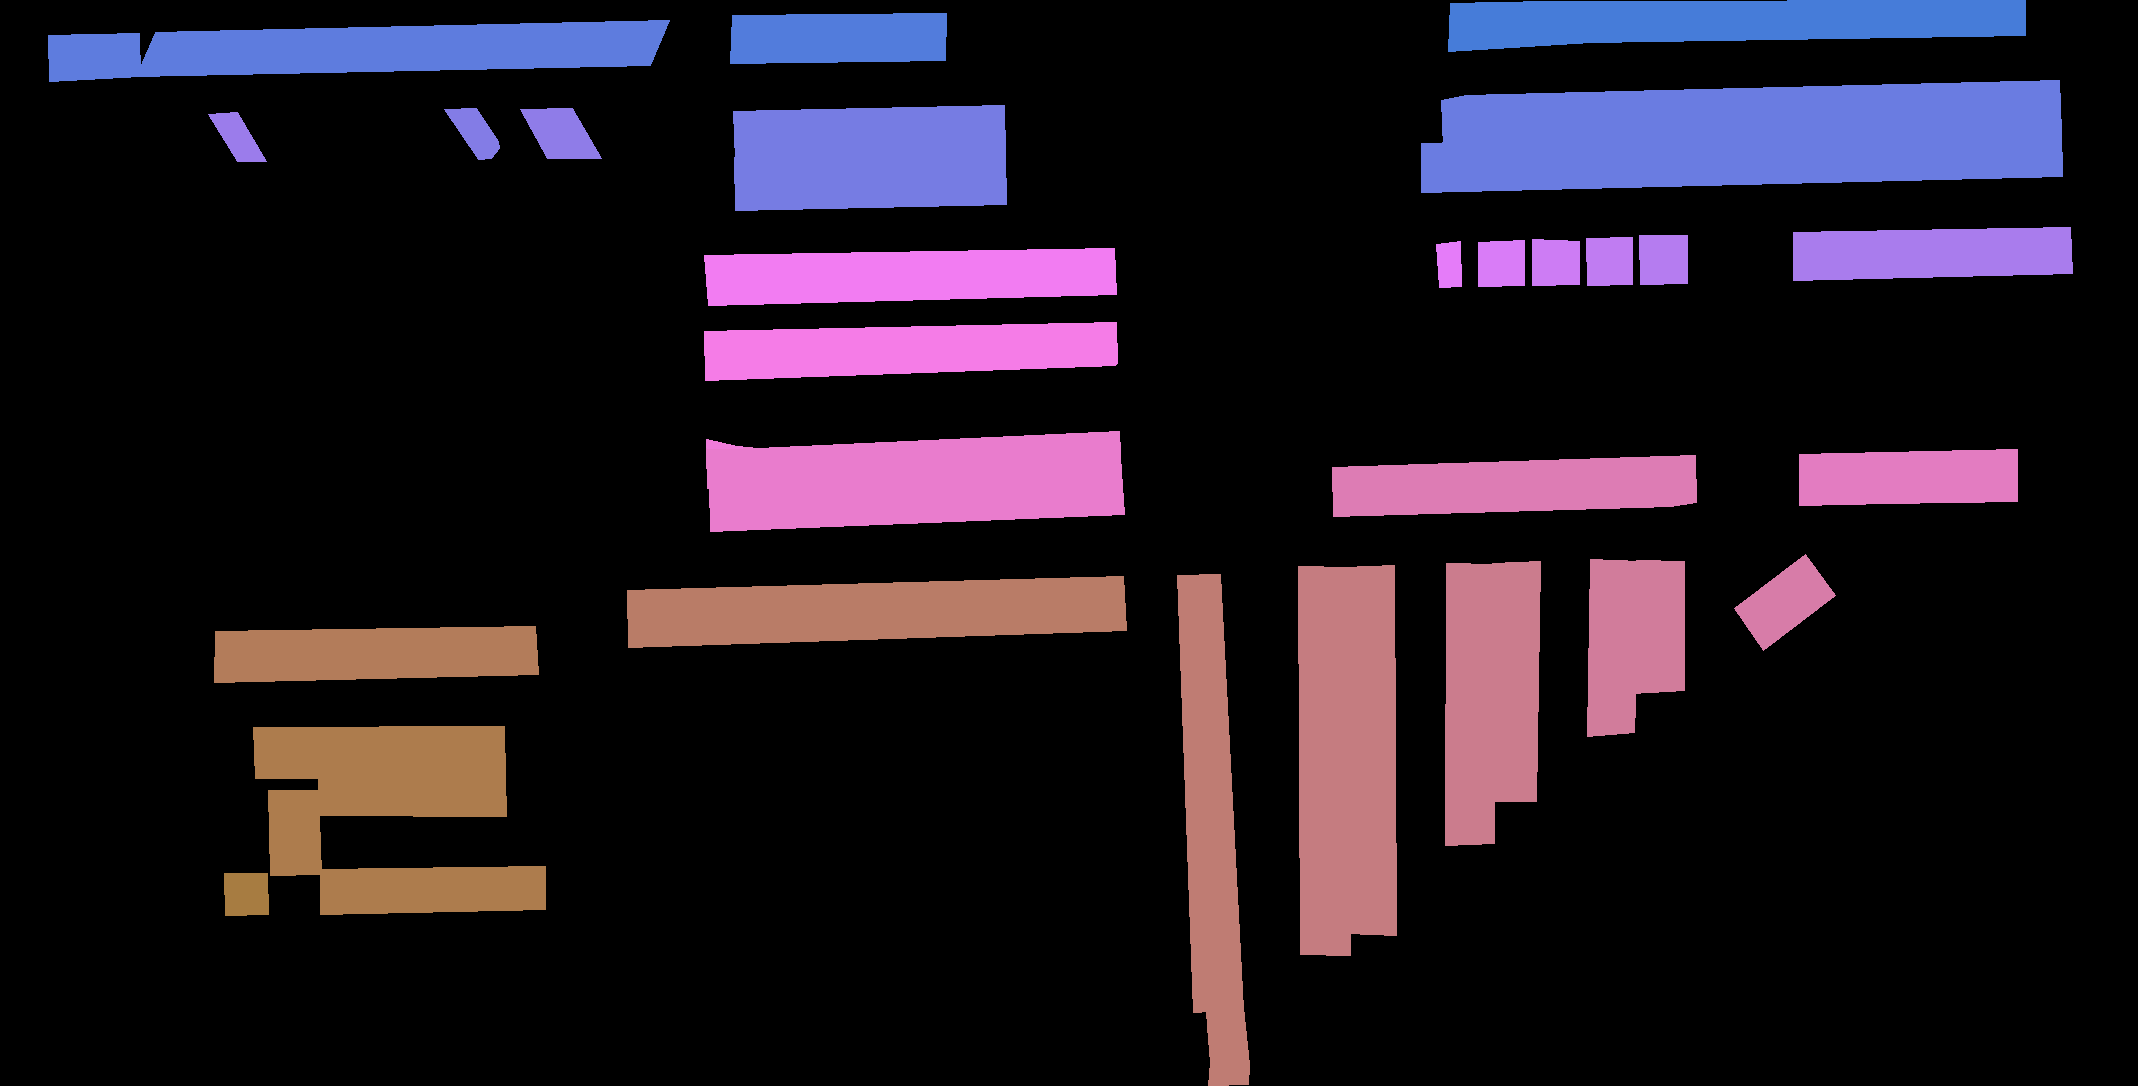parkingspot: (1421, 127, 2062, 193), (1441, 80, 2060, 147), (627, 576, 1126, 647), (136, 19, 669, 76), (1448, 0, 2024, 51), (1177, 573, 1243, 1013), (709, 471, 1124, 531), (703, 321, 1117, 380), (706, 431, 1122, 488), (703, 248, 1116, 305), (1332, 454, 1696, 517), (1297, 567, 1350, 954), (1345, 565, 1396, 935), (215, 626, 539, 682), (734, 151, 1007, 211), (733, 105, 1005, 161), (1793, 227, 2072, 280), (1446, 562, 1495, 845), (253, 726, 505, 778), (1799, 449, 2018, 506), (1491, 561, 1540, 801), (320, 866, 546, 914), (730, 12, 946, 62), (1734, 554, 1835, 650), (1587, 560, 1640, 736), (318, 774, 505, 816), (1633, 560, 1684, 693), (269, 790, 321, 875), (48, 33, 140, 80), (521, 108, 601, 158), (1206, 1007, 1249, 1085), (208, 112, 266, 161), (444, 108, 498, 159), (1585, 237, 1633, 285), (1640, 235, 1687, 284), (1477, 240, 1525, 285), (1531, 240, 1579, 285), (224, 873, 269, 916), (1436, 241, 1461, 287)
